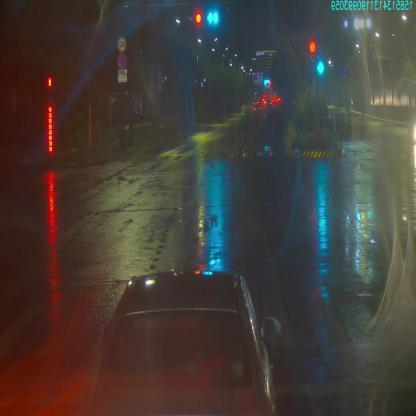traffic-light: (207, 11, 220, 24), (196, 11, 202, 23)
